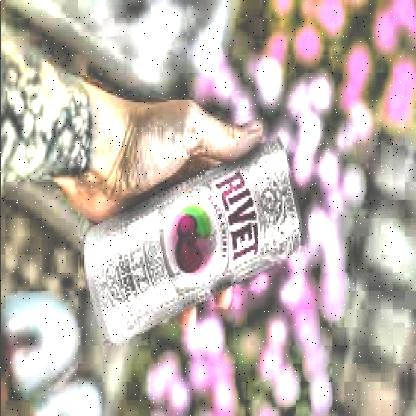Can: (75, 128, 309, 352)
